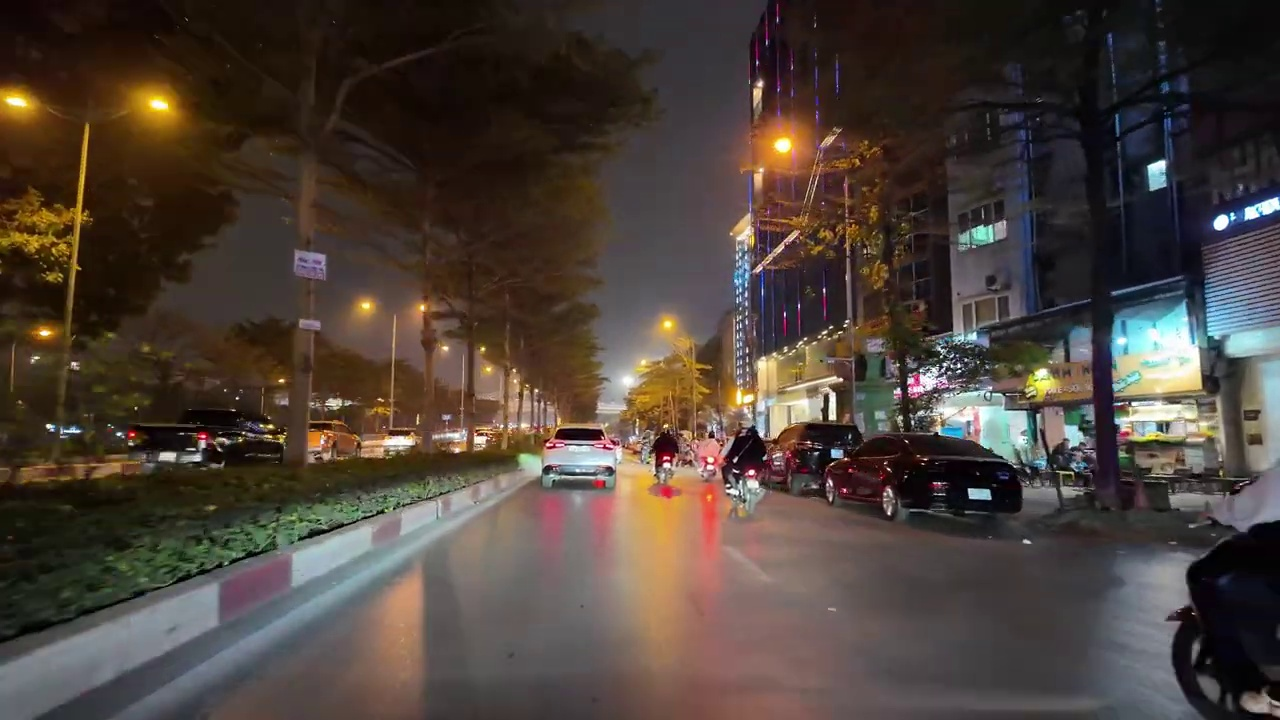acesa: (134, 88, 180, 127), (1, 87, 38, 120), (763, 131, 799, 164), (655, 314, 684, 340), (351, 295, 379, 321)
